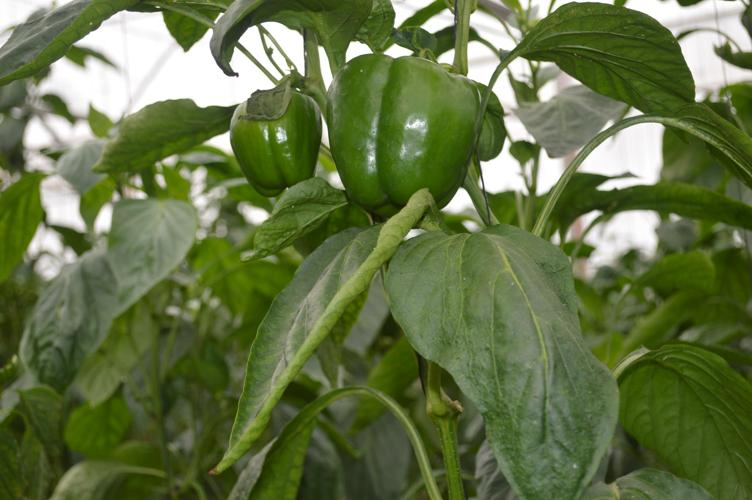BellPepper: (324, 49, 485, 226), (223, 93, 328, 197)
